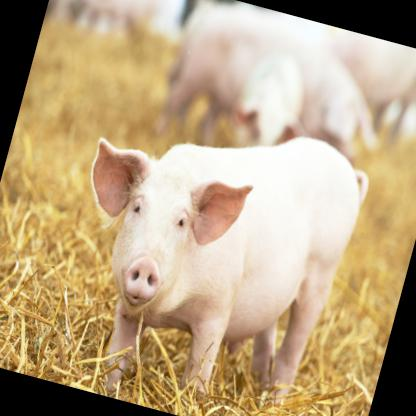Pig: (33, 80, 399, 415)
